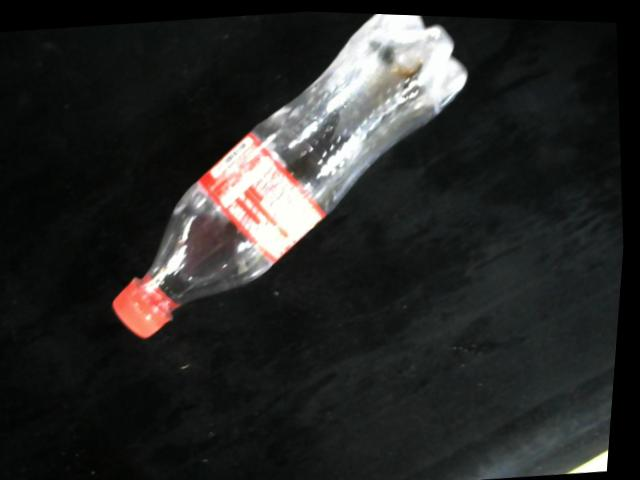bottle: (115, 11, 471, 339)
